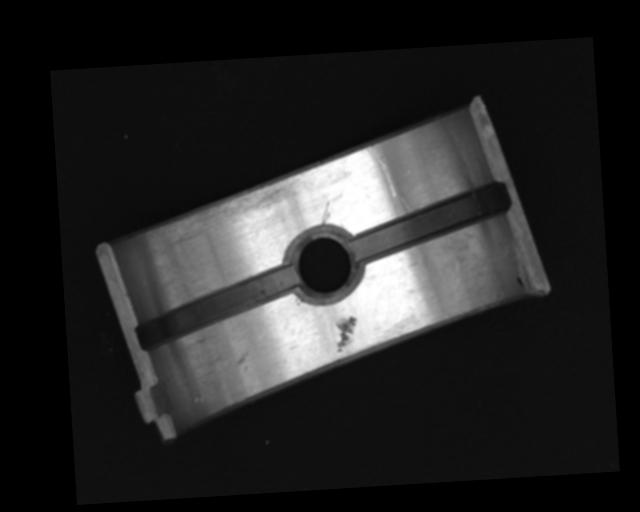blot: (515, 275, 526, 291)
bruise: (333, 314, 359, 353), (235, 350, 250, 372), (191, 394, 204, 405)
gap: (131, 261, 300, 349), (347, 181, 512, 265)
hole: (286, 226, 363, 303)
nick: (367, 143, 397, 200), (320, 200, 331, 224)
scratch: (141, 162, 301, 252)
